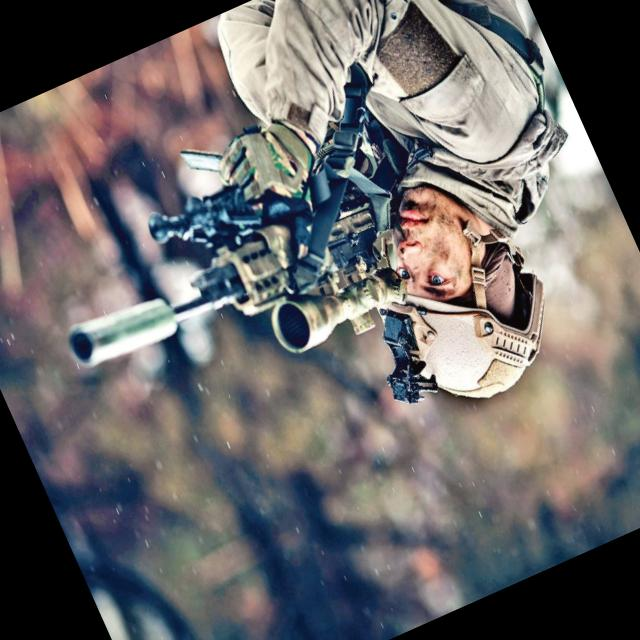Weapon: (6, 53, 503, 526)
